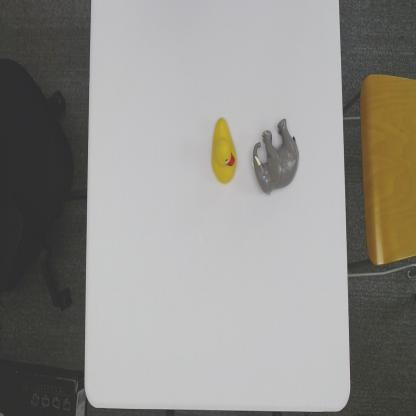Duck: (210, 114, 238, 186)
Elephant: (250, 116, 301, 199)
